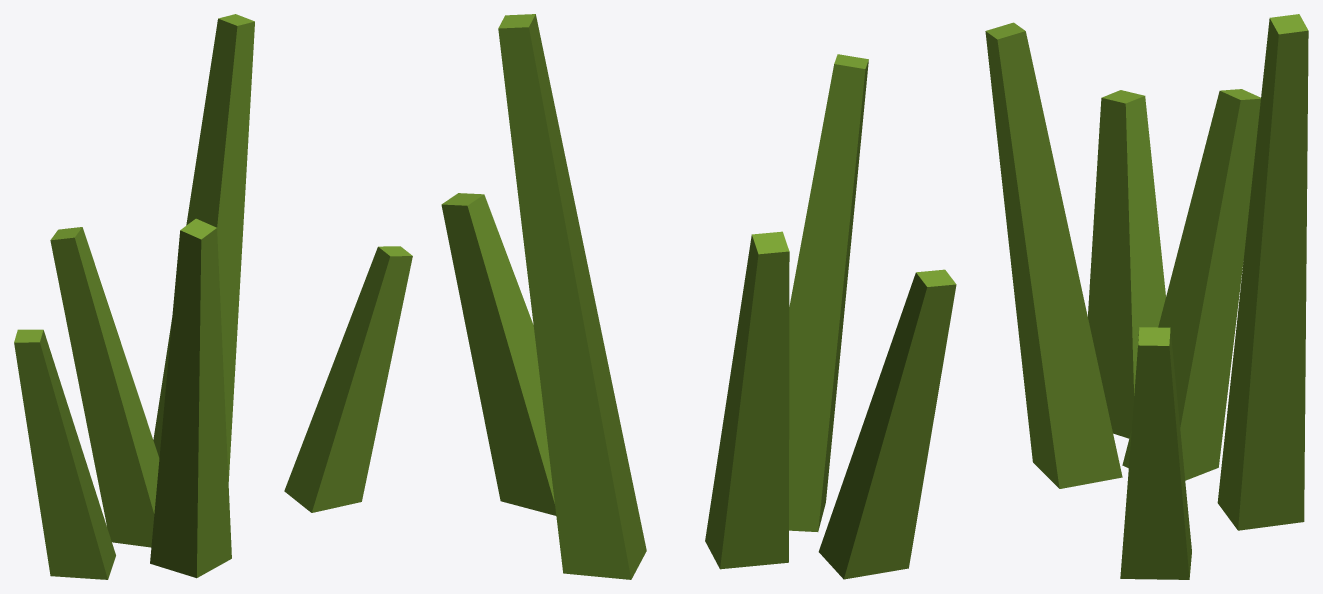
The model's file is SF_Env_RiverPlants_02.FBX.
3 views of the same model, side by side, from view 1: azimuth 30°, elevation 25°; view 2: azimuth 150°, elevation 25°; view 3: azimuth 270°, elevation 25° (orthographic). The views are drawn at different scales.
Visible parts, largest first — view 1: SF_Env_RiverPlants_02_Elements3, SF_Env_RiverPlants_02_Elements5, SF_Env_RiverPlants_02_Elements2, SF_Env_RiverPlants_02_Elements4, SF_Env_RiverPlants_02_Elements1; view 2: SF_Env_RiverPlants_02_Elements4, SF_Env_RiverPlants_02_Elements3, SF_Env_RiverPlants_02_Elements1, SF_Env_RiverPlants_02_Elements5, SF_Env_RiverPlants_02_Elements2; view 3: SF_Env_RiverPlants_02_Elements4, SF_Env_RiverPlants_02_Elements3, SF_Env_RiverPlants_02_Elements5, SF_Env_RiverPlants_02_Elements1, SF_Env_RiverPlants_02_Elements2.
Part boxes in pixels (bbox=[...]): SF_Env_RiverPlants_02_Elements3: bbox=[150, 218, 231, 578]; SF_Env_RiverPlants_02_Elements5: bbox=[50, 227, 159, 547]; SF_Env_RiverPlants_02_Elements2: bbox=[284, 246, 412, 512]; SF_Env_RiverPlants_02_Elements4: bbox=[153, 14, 254, 481]; SF_Env_RiverPlants_02_Elements1: bbox=[14, 329, 115, 579]; SF_Env_RiverPlants_02_Elements4: bbox=[498, 14, 646, 579]; SF_Env_RiverPlants_02_Elements3: bbox=[789, 54, 868, 531]; SF_Env_RiverPlants_02_Elements1: bbox=[818, 269, 956, 579]; SF_Env_RiverPlants_02_Elements5: bbox=[705, 231, 789, 569]; SF_Env_RiverPlants_02_Elements2: bbox=[441, 193, 556, 515]; SF_Env_RiverPlants_02_Elements4: bbox=[1217, 14, 1308, 530]; SF_Env_RiverPlants_02_Elements3: bbox=[985, 22, 1122, 488]; SF_Env_RiverPlants_02_Elements5: bbox=[1122, 89, 1260, 480]; SF_Env_RiverPlants_02_Elements1: bbox=[1088, 90, 1165, 438]; SF_Env_RiverPlants_02_Elements2: bbox=[1120, 327, 1191, 579].
Bounding box in the file's own units: 2.27 × 2.37 × 1.32.
